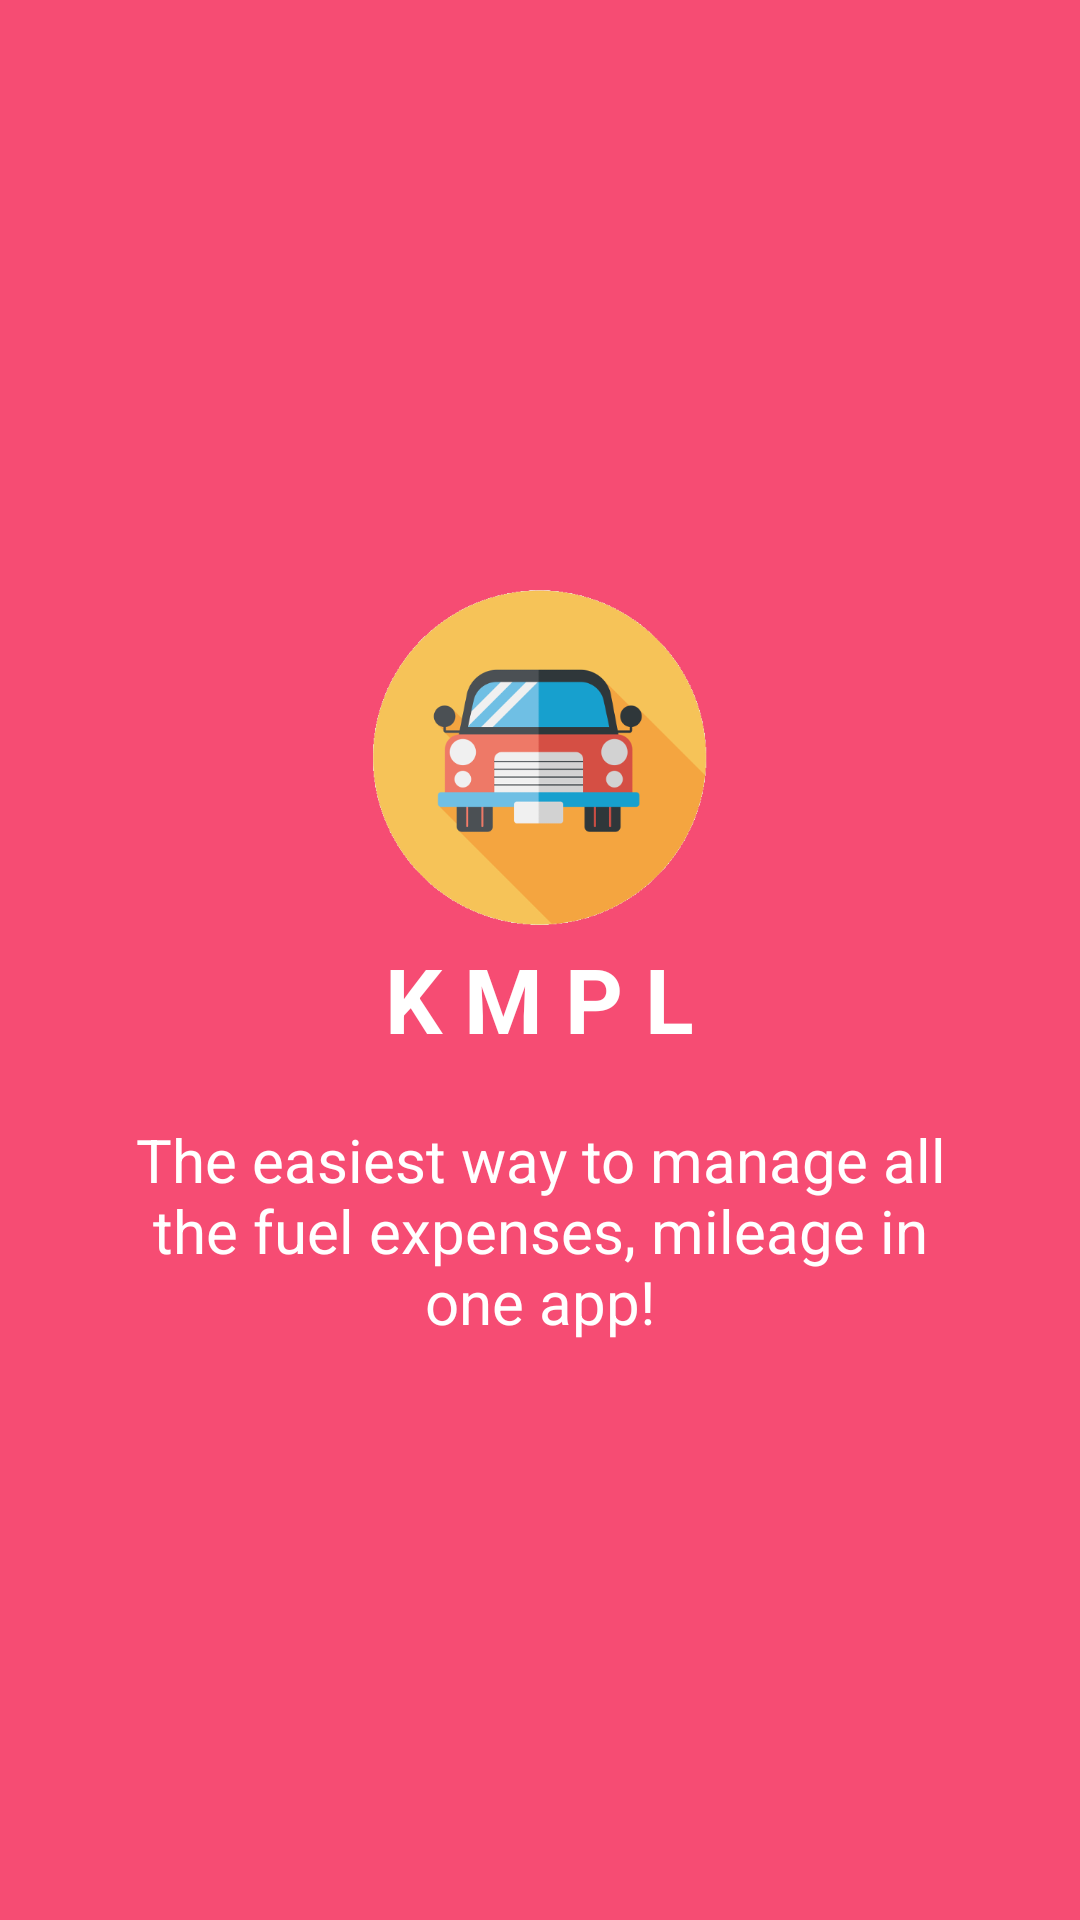

Icons on this 1080x1920 Android screen, each with its box as [x1, y1, x2, y2]:
car: [373, 590, 707, 925]
